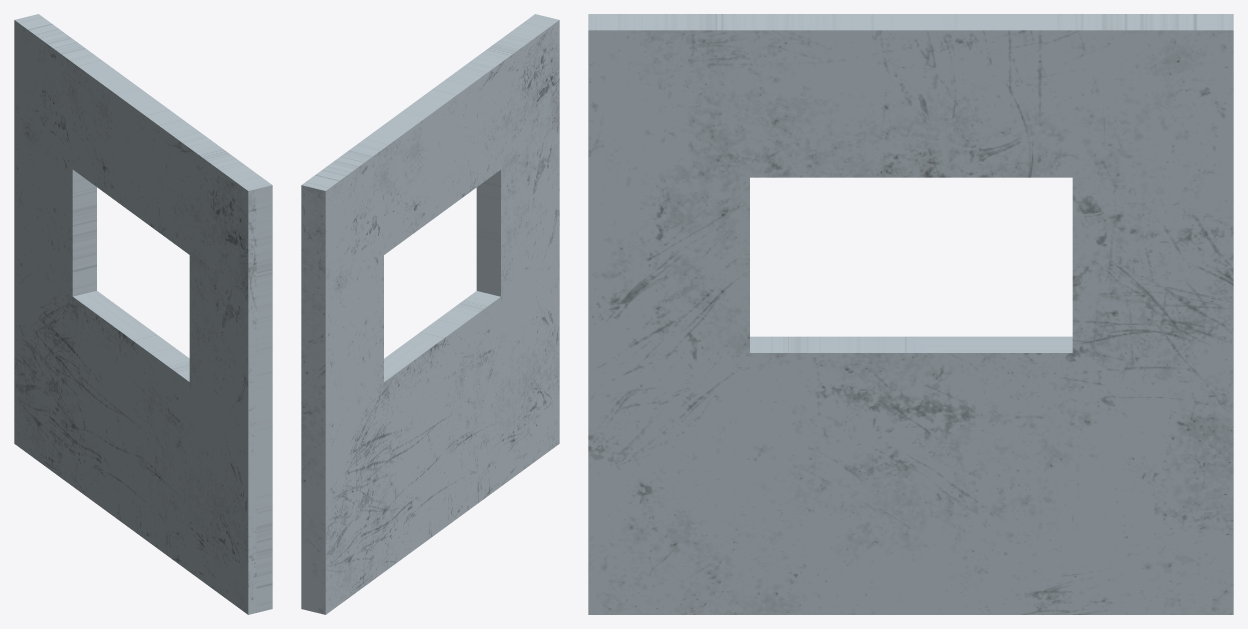
File: Parede--janela.fbx
3 renders of one model, left to right at view 1: azimuth 30°, elevation 25°; view 2: azimuth 150°, elevation 25°; view 3: azimuth 270°, elevation 25°, orthographic. The views are drawn at different scales.
Visible parts, largest first — view 1: Parede_janela; view 2: Parede_janela; view 3: Parede_janela.
Part boxes in pixels (box(x1,y1,x2,y2)): Parede_janela: box(14, 14, 272, 614); Parede_janela: box(301, 14, 559, 614); Parede_janela: box(588, 14, 1233, 614).
Bounding box in the file's own units: 30 × 500 × 500.
Materials: 2 (2 with a texture image).
